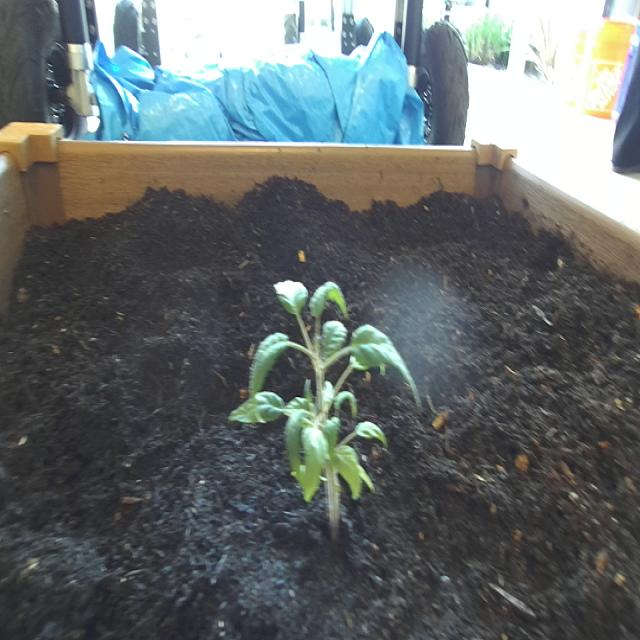Healthy: (227, 275, 426, 541)
